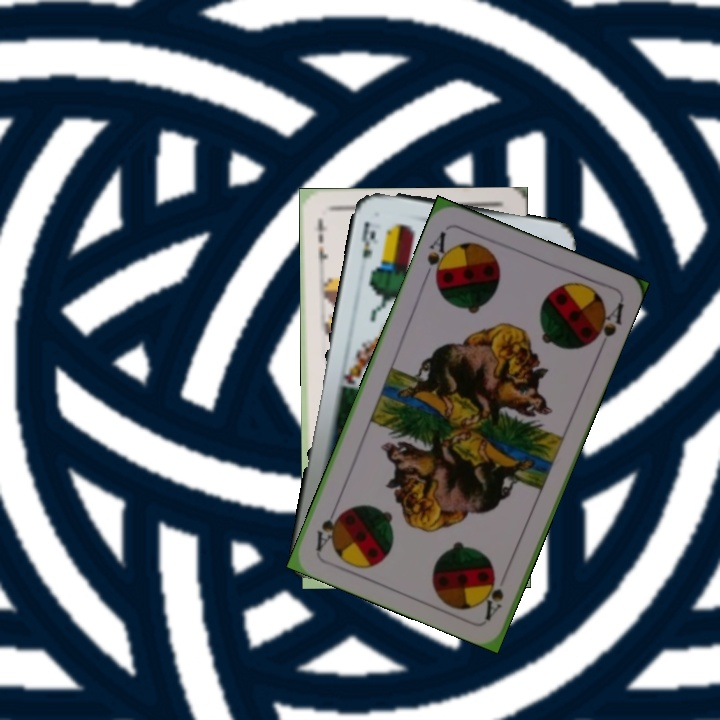E7: (313, 213, 330, 272)
EK: (357, 218, 381, 262)
SA: (423, 227, 454, 286), (480, 565, 512, 622)
